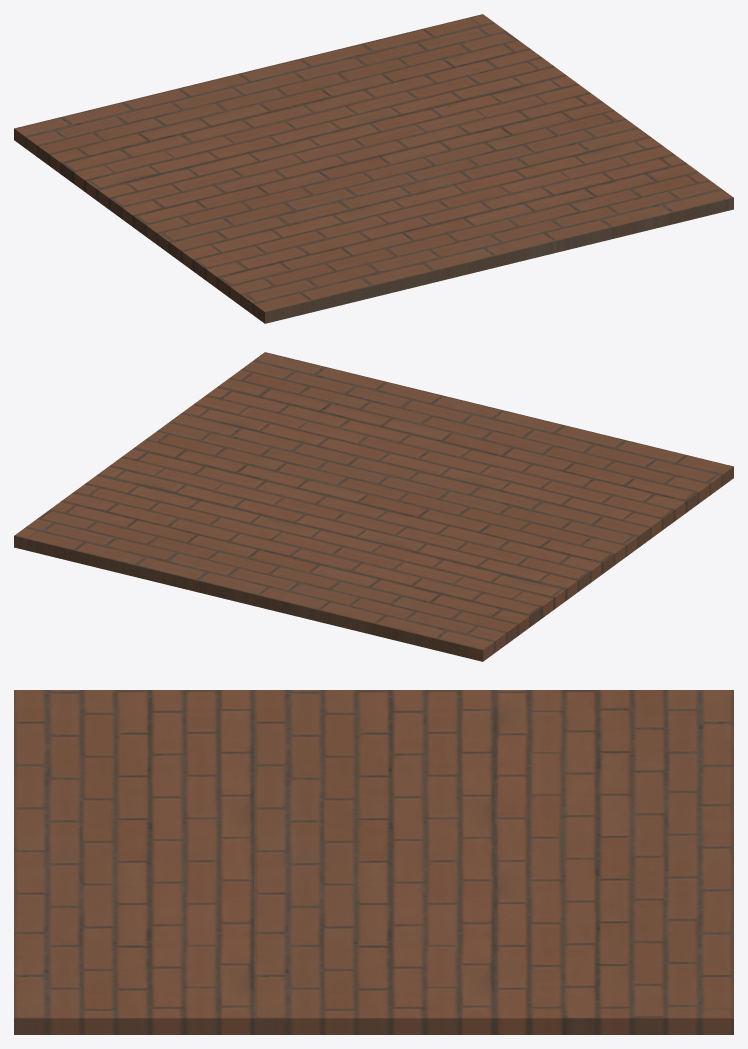
Rendered from ExteriorRoof_Art.fbx.
3 views of the same model, one above another, from view 1: azimuth 30°, elevation 25°; view 2: azimuth 150°, elevation 25°; view 3: azimuth 270°, elevation 25° (orthographic). The views are drawn at different scales.
Parts seen in each view (by area): view 1: ExteriorRoof_Art; view 2: ExteriorRoof_Art; view 3: ExteriorRoof_Art.
Part boxes in pixels (x1,y1,x2,y2): ExteriorRoof_Art: (14,14,733,323); ExteriorRoof_Art: (14,352,733,661); ExteriorRoof_Art: (14,690,733,1034).
Bounding box in the file's own units: 6.32 × 0.15 × 5.86.
